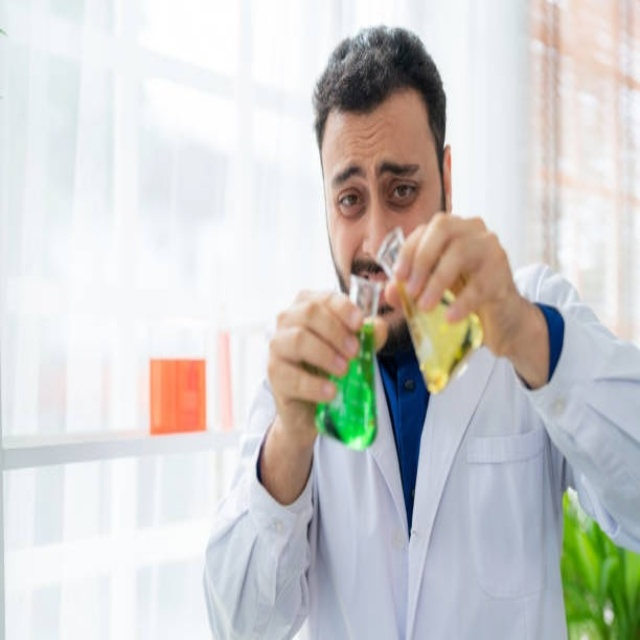Sin_gafas: (326, 147, 426, 221)
Sin_guantes: (384, 208, 527, 372), (266, 290, 377, 438)
